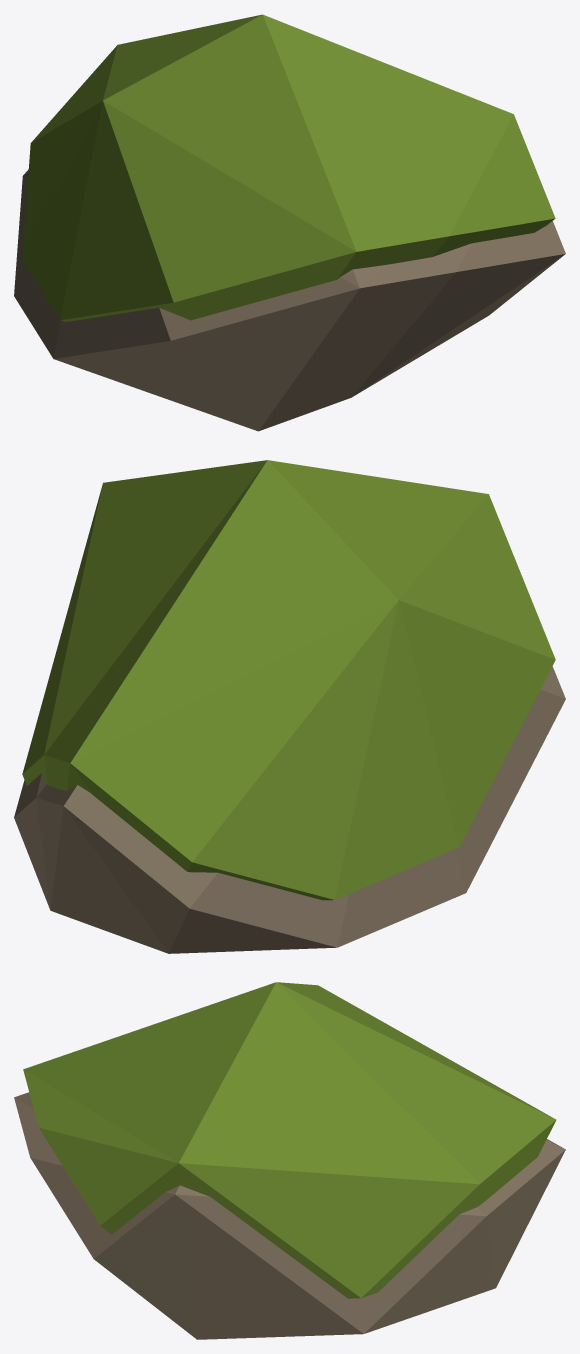
The model's file is Stone_2_moss_brown_mat.fbx.
The picture shows the model from 3 angles, top to bottom: view 1: azimuth 30°, elevation 25°; view 2: azimuth 150°, elevation 25°; view 3: azimuth 270°, elevation 25°; orthographic projection. The views are drawn at different scales.
Parts seen in each view (by area): view 1: Stone_2_moss_brown_mat; view 2: Stone_2_moss_brown_mat; view 3: Stone_2_moss_brown_mat.
Boxes of the visible parts, x1,y1,x2,y2 form: Stone_2_moss_brown_mat: (14, 14, 565, 431); Stone_2_moss_brown_mat: (14, 460, 565, 953); Stone_2_moss_brown_mat: (14, 982, 565, 1339).
Bounding box in the file's own units: 27.27 × 20.73 × 37.23.
